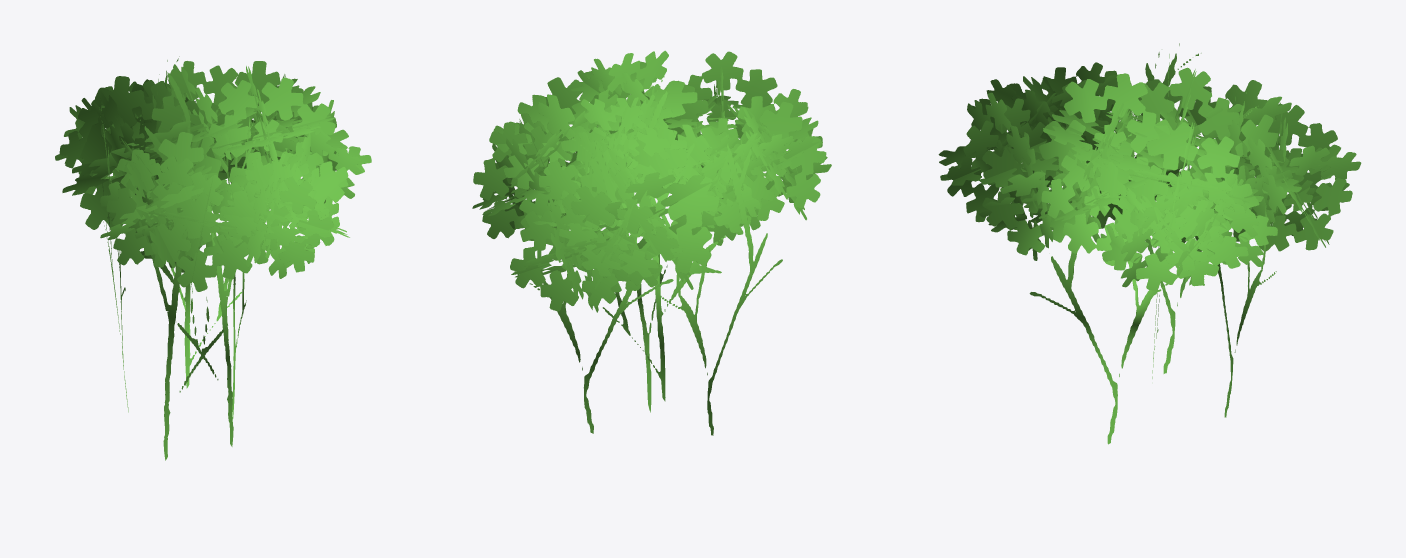
The model's file is sn-stylised-bush-3.glb.
3 renders of one model, left to right at view 1: azimuth 30°, elevation 25°; view 2: azimuth 150°, elevation 25°; view 3: azimuth 270°, elevation 25°, orthographic. The views are drawn at different scales.
Parts seen in each view (by area): view 1: StylisedBush3; view 2: StylisedBush3; view 3: StylisedBush3.
Part boxes in pixels (<box>): StylisedBush3: <box>55,56,371,460</box>; StylisedBush3: <box>472,50,831,435</box>; StylisedBush3: <box>938,43,1361,444</box>.
Size of the model in its own units: 2.94 by 3.74 by 3.46.
1 material, 1 textured.
